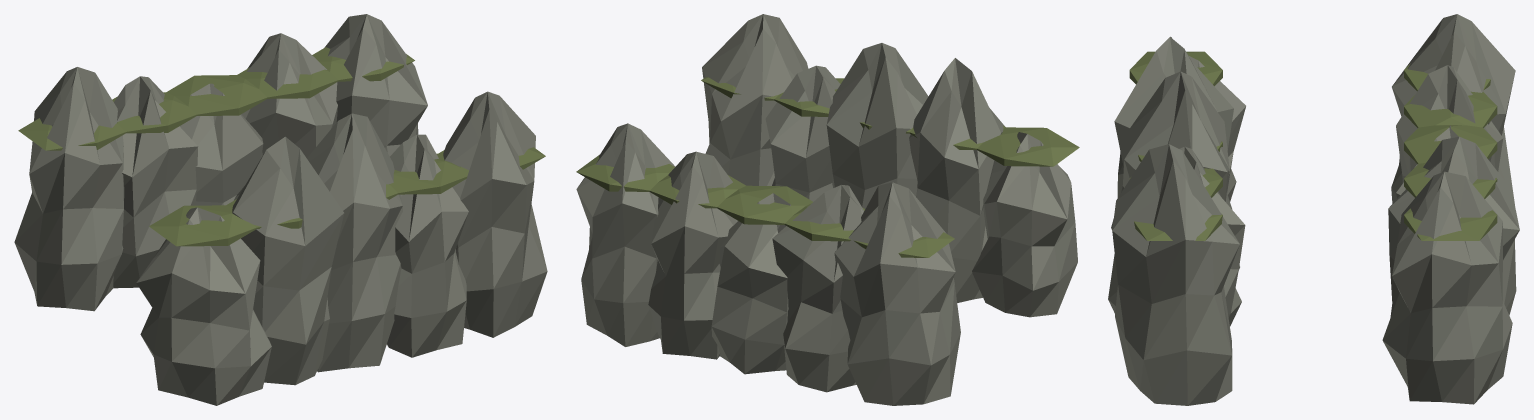
File: ravine.glb
The picture shows the model from 3 angles, left to right: view 1: azimuth 30°, elevation 25°; view 2: azimuth 150°, elevation 25°; view 3: azimuth 270°, elevation 25°; orthographic projection. The views are drawn at different scales.
Parts seen in each view (by area): view 1: world-scenery/ravine; view 2: world-scenery/ravine; view 3: world-scenery/ravine.
Boxes of the visible parts, x1,y1,x2,y2 form: world-scenery/ravine: (14, 14, 547, 405); world-scenery/ravine: (576, 14, 1079, 405); world-scenery/ravine: (1108, 14, 1519, 405).
Size of the model in its own units: 6.93 by 3.96 by 6.
